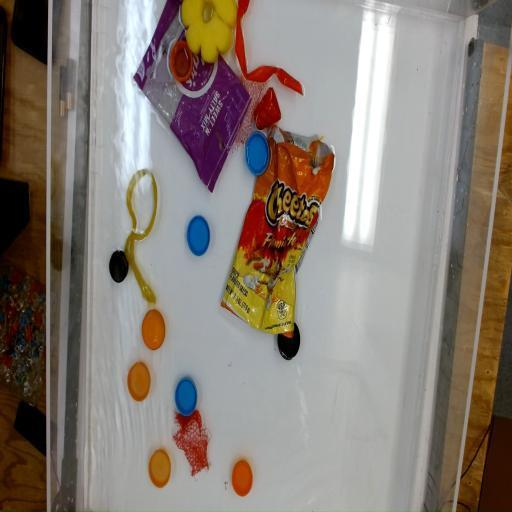Bottle Cap: (186, 212, 210, 257), (246, 132, 271, 174), (142, 309, 166, 352), (168, 40, 192, 82), (126, 361, 150, 402), (176, 374, 198, 416), (278, 322, 301, 362), (148, 450, 172, 488), (231, 458, 254, 497), (108, 248, 130, 284)
Cone Cap: (254, 86, 282, 130)
Netting: (232, 82, 278, 154), (172, 408, 212, 479)
Plastic Bag: (219, 123, 336, 334), (132, 0, 252, 195)
Plastic Strand: (235, 0, 305, 98), (124, 166, 160, 306)
Sponge: (180, 0, 238, 68)
